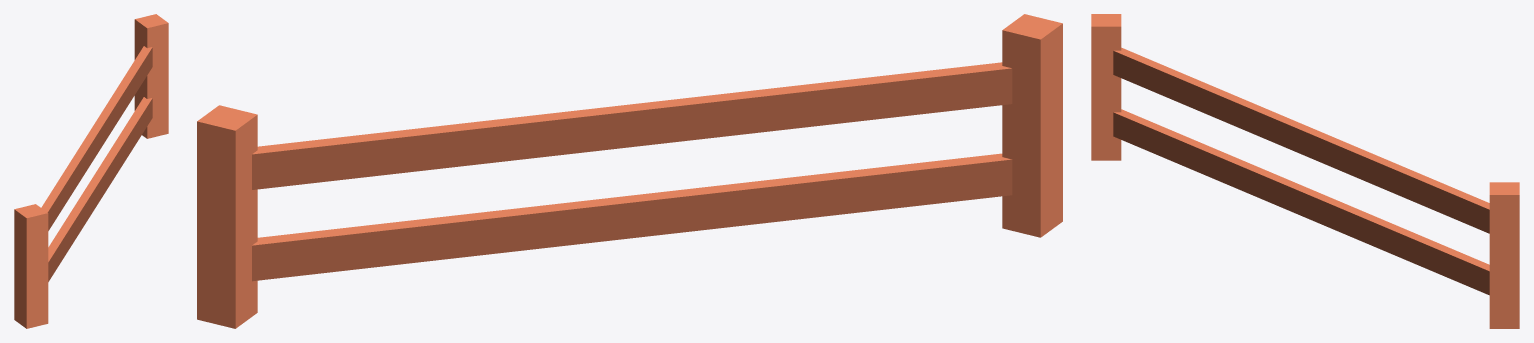
File: fence_simpleDiagonal.dae
3 renders of one model, left to right at view 1: azimuth 30°, elevation 25°; view 2: azimuth 150°, elevation 25°; view 3: azimuth 270°, elevation 25°, orthographic. The views are drawn at different scales.
Parts seen in each view (by area): view 1: fence_simpleDiagonal; view 2: fence_simpleDiagonal; view 3: fence_simpleDiagonal.
Part boxes in pixels (x1,y1,x2,y2): fence_simpleDiagonal: [14, 14, 168, 328]; fence_simpleDiagonal: [197, 14, 1062, 328]; fence_simpleDiagonal: [1091, 14, 1519, 328].
Bounding box in the file's own units: 1 × 0.345 × 1.
